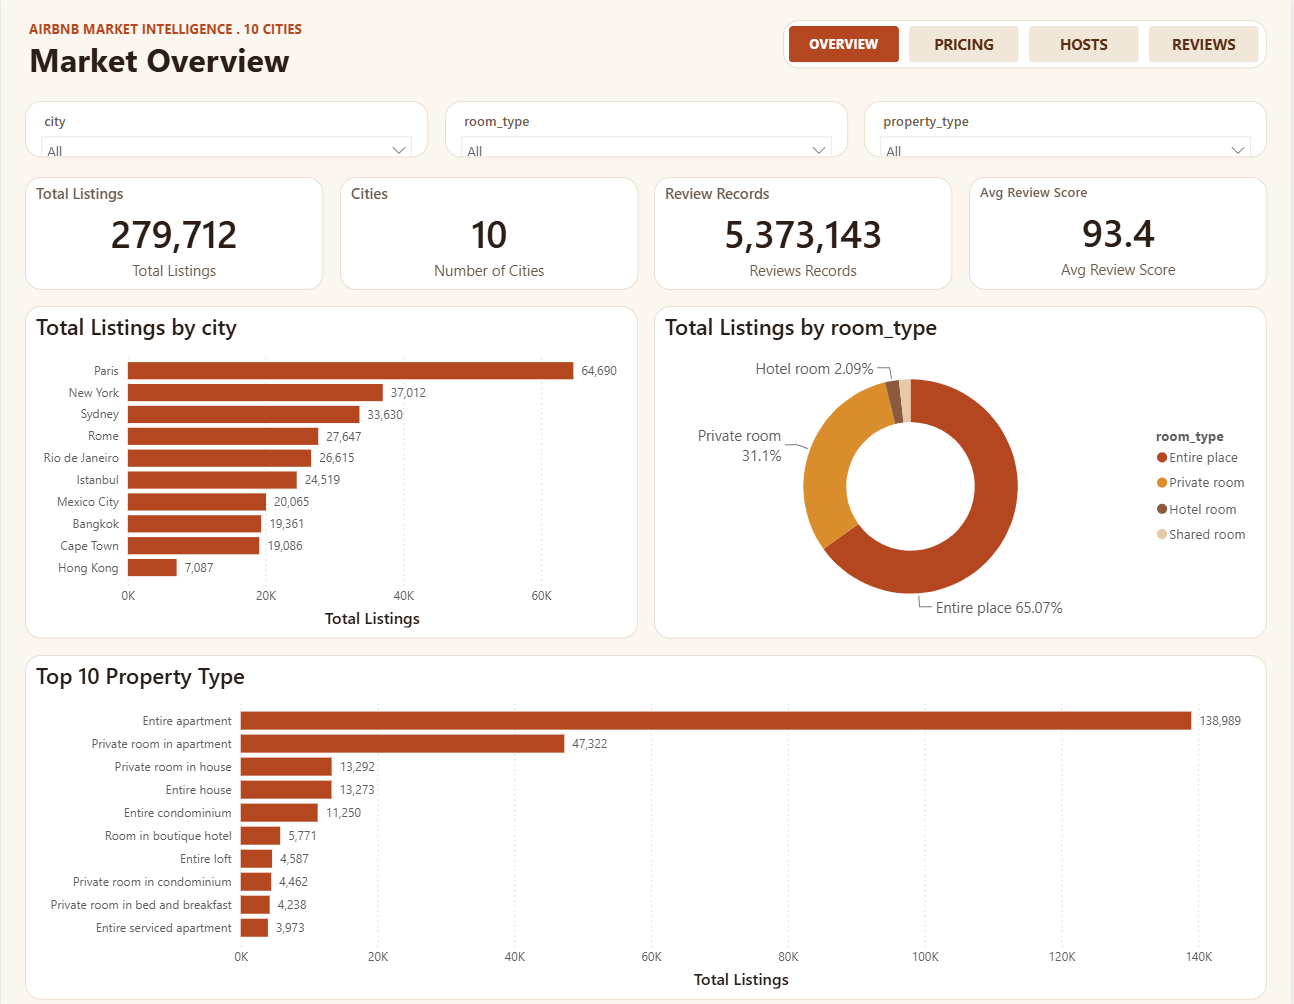

This screenshot's page, from the dashboard's own definition file:
{"tool":"powerbi","page":{"name":" OVERVIEW","canvas":[1280,1000],"ordinal":0},"visuals":[{"type":"textbox","box":[24,16,600,72],"z":0},{"type":"pageNavigator","box":[776,20,480,48],"z":1000},{"type":"slicer","fields":{"Values":["Cities.city"]},"box":[24,100,400,56],"z":2000},{"type":"slicer","fields":{"Values":["Listings_clean.room_type"]},"box":[440,100,400,56],"z":3000},{"type":"slicer","fields":{"Values":["Listings_clean.property_type"]},"box":[856,100,400,56],"z":4000},{"type":"card","title":"Total Listings","fields":{"Values":["Listings_clean.Total Listings"]},"box":[24,176,296,112],"z":5000},{"type":"card","title":"Cities","fields":{"Values":["Listings_clean.Number of Cities"]},"box":[336,176,296,112],"z":6000},{"type":"card","title":"Review Records","fields":{"Values":["Listings_clean.Total Review Records"]},"box":[648,176,296,112],"z":7000},{"type":"card","title":"Avg Review Score","fields":{"Values":["Listings_clean.Avg Review Score"]},"box":[960,176,296,112],"z":8000},{"type":"clusteredBarChart","fields":{"Category":["Cities.city"],"Y":["Listings_clean.Total Listings"]},"box":[24,304,608,330],"z":9000},{"type":"donutChart","fields":{"Category":["Listings_clean.room_type"],"Y":["Listings_clean.Total Listings"]},"box":[648,304,608,330],"z":10000},{"type":"clusteredBarChart","title":"Top 10 Property Type","fields":{"Category":["Listings_clean.property_type"],"Y":["Listings_clean.Total Listings"]},"box":[24,650,1232,342],"z":11000}]}

Visuals, with their boxes in screenshot pixels (x1, y1, x2, y2), scaled from the page's 1280x1000 canvas onto the 1294x1004 screenshot:
textbox: 24/16/631/88
pageNavigator: 784/20/1270/68
slicer - Cities.city: 24/100/429/157
slicer - Listings_clean.room_type: 445/100/849/157
slicer - Listings_clean.property_type: 865/100/1270/157
"Total Listings" card: 24/177/324/289
"Cities" card: 340/177/639/289
"Review Records" card: 655/177/954/289
"Avg Review Score" card: 970/177/1270/289
clusteredBarChart - Cities.city x Listings_clean.Total Listings: 24/305/639/637
donutChart - Listings_clean.room_type x Listings_clean.Total Listings: 655/305/1270/637
"Top 10 Property Type" clusteredBarChart: 24/653/1270/996
